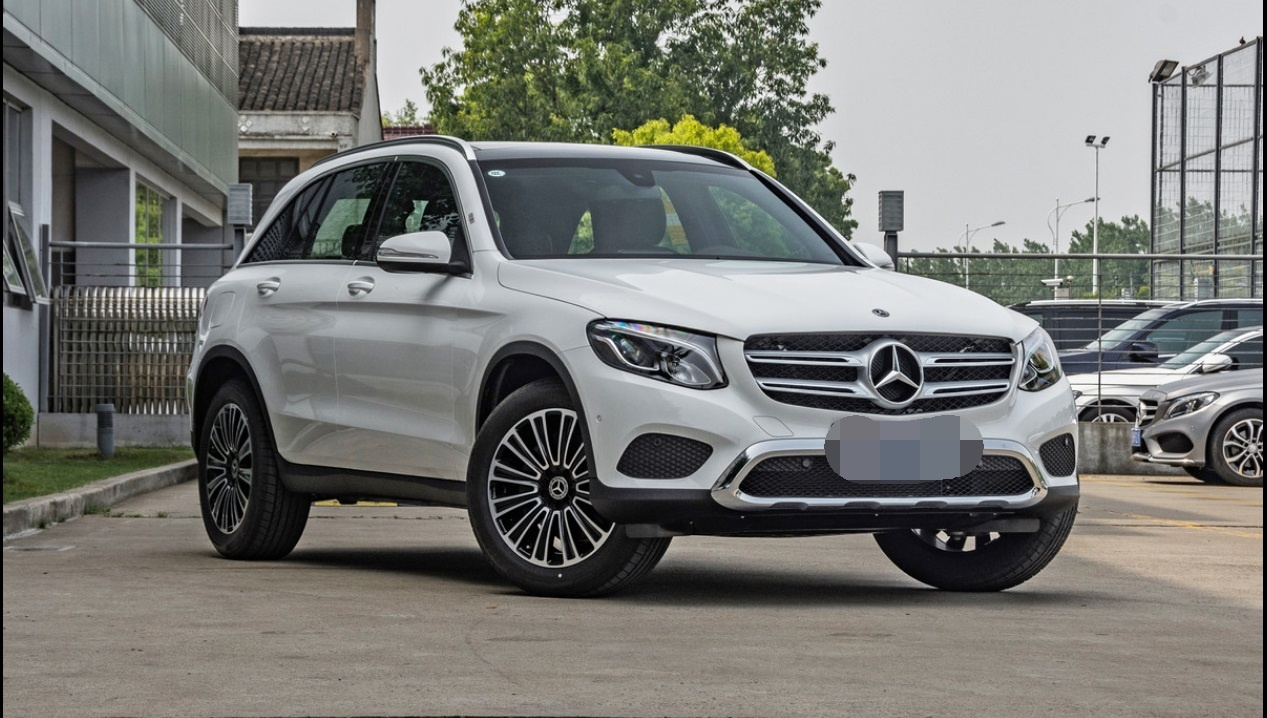SUV: (208, 129, 1103, 618)
